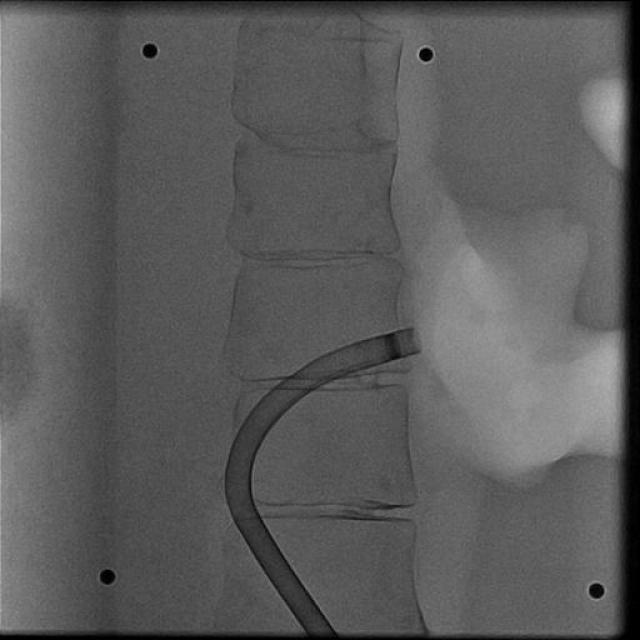bend: (224, 484, 252, 504)
entry: (306, 630, 338, 636)
marker: (382, 330, 402, 362)
tip: (410, 328, 425, 353)
